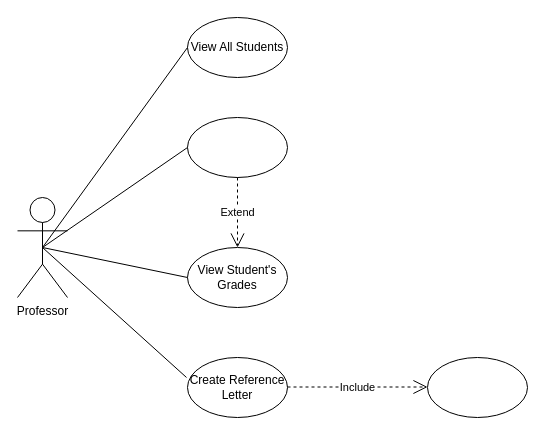
Image size: 545x435. Some labels were removed from this diagram. Here are the shapes that lost their labels. From the top down, the centre of each, then its label:
At point (237, 147): "Select Specific Student".
At point (477, 387): "Select Reference Letter Template".
